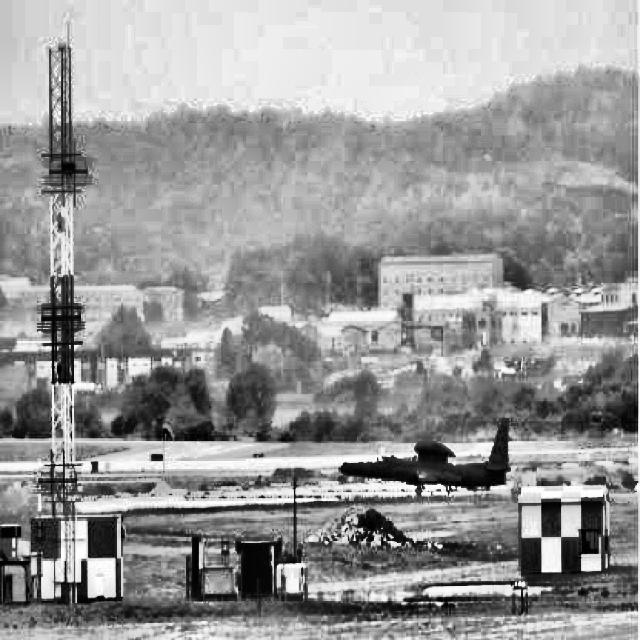U2: (340, 418, 511, 496)
